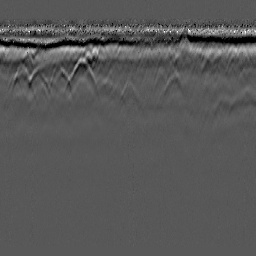cavity: (118, 76, 138, 102)
